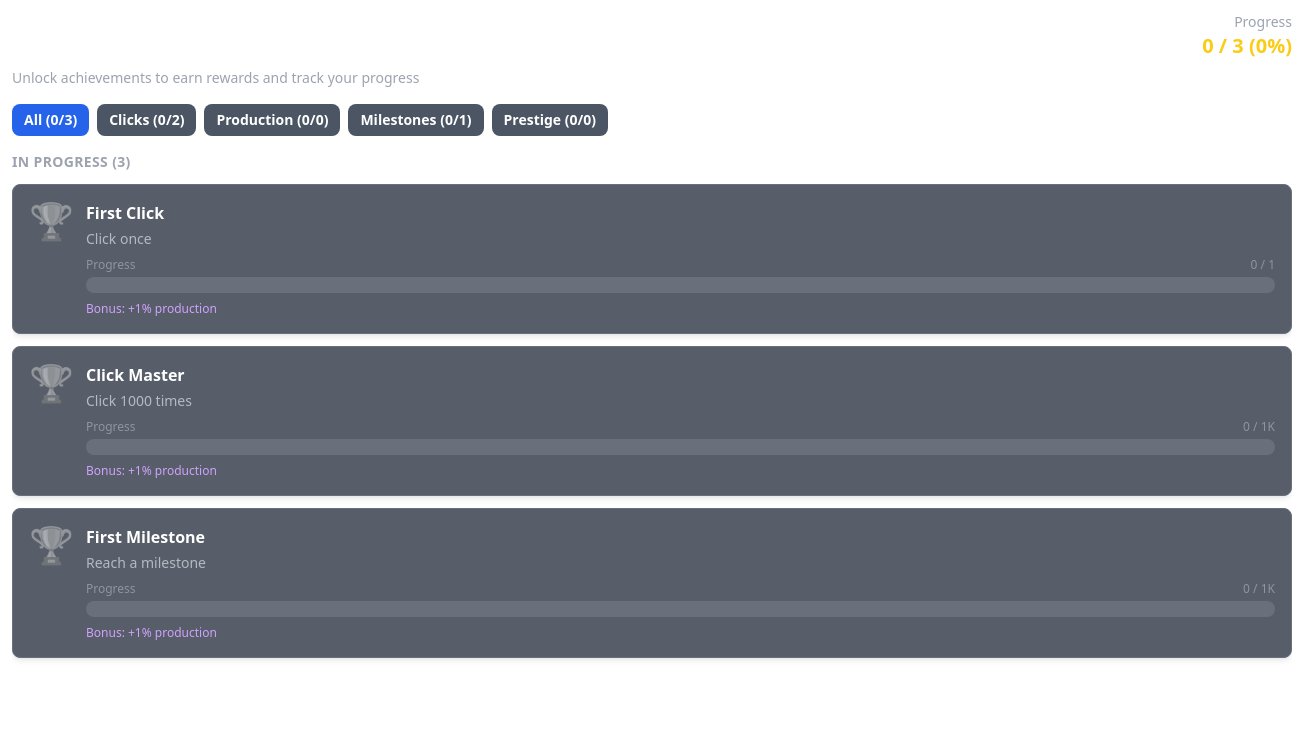
Test: AchievementsPanel › should filter achievements by category
Expected: the heading "First Click" is shown, x1=86 y1=201 x2=164 y2=225
Expected: the heading "First Milestone" is shown, x1=86 y1=525 x2=205 y2=549
# Filter to clicks
Click the button with aria-label "Clicks achievements" at (147, 120), box x1=97 y1=104 x2=196 y2=136
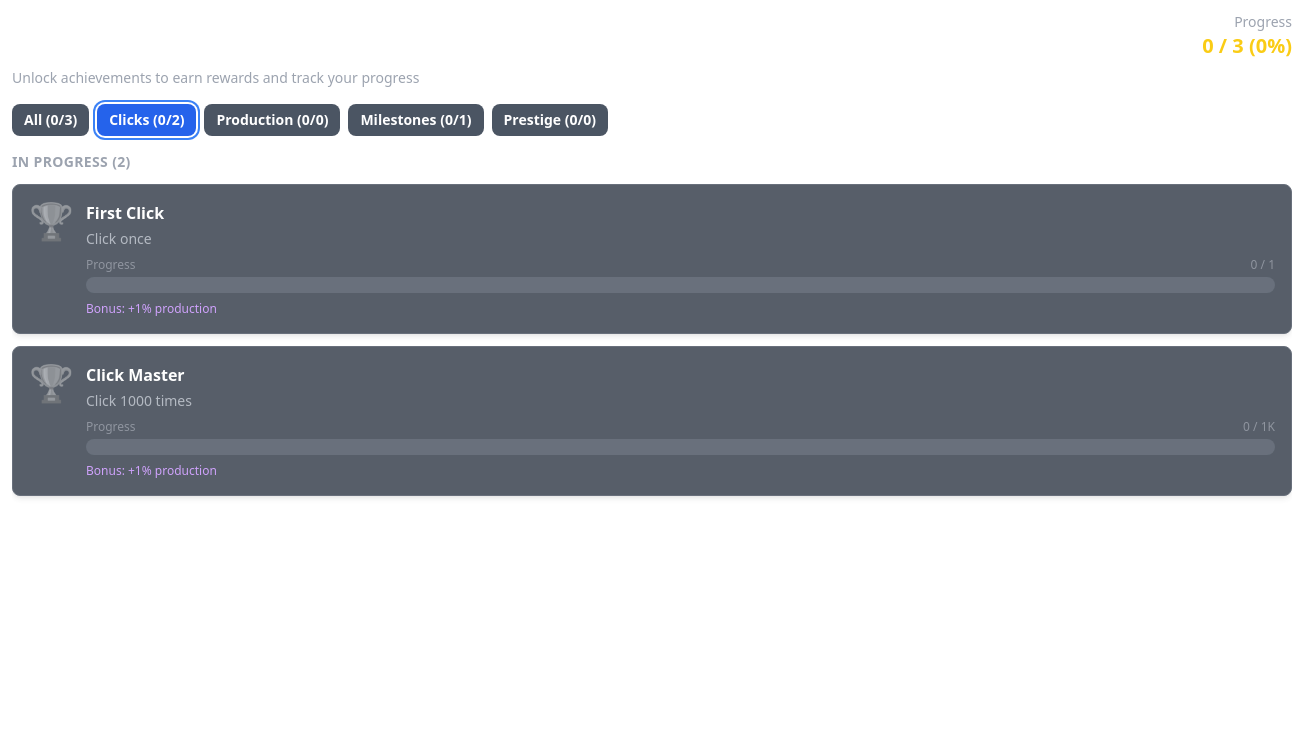
Expected: the heading "First Click" is shown, x1=86 y1=201 x2=164 y2=225
Expected: the heading "First Milestone" is gone
# Filter to milestones
Click the button with aria-label "Milestones achievements" at (416, 120), box x1=348 y1=104 x2=484 y2=136
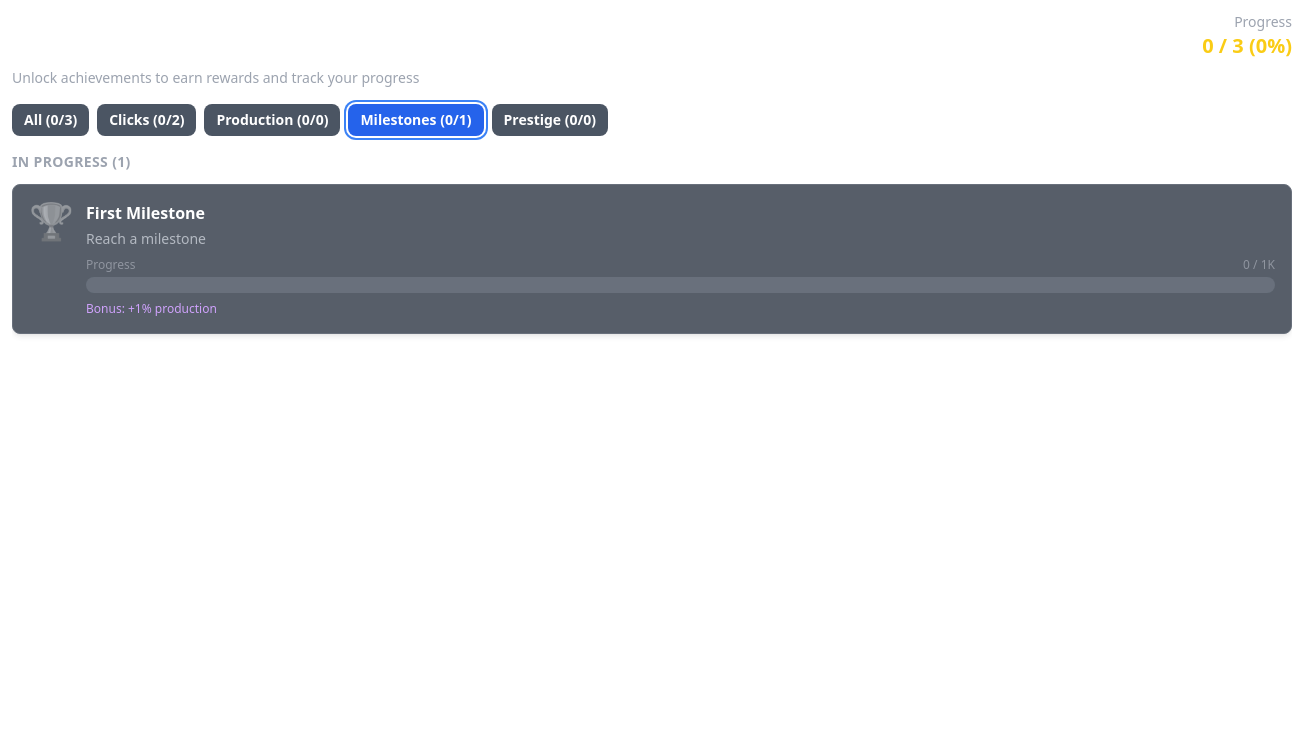
Expected: the heading "First Click" is gone
Expected: the heading "First Milestone" is shown, x1=86 y1=201 x2=205 y2=225
